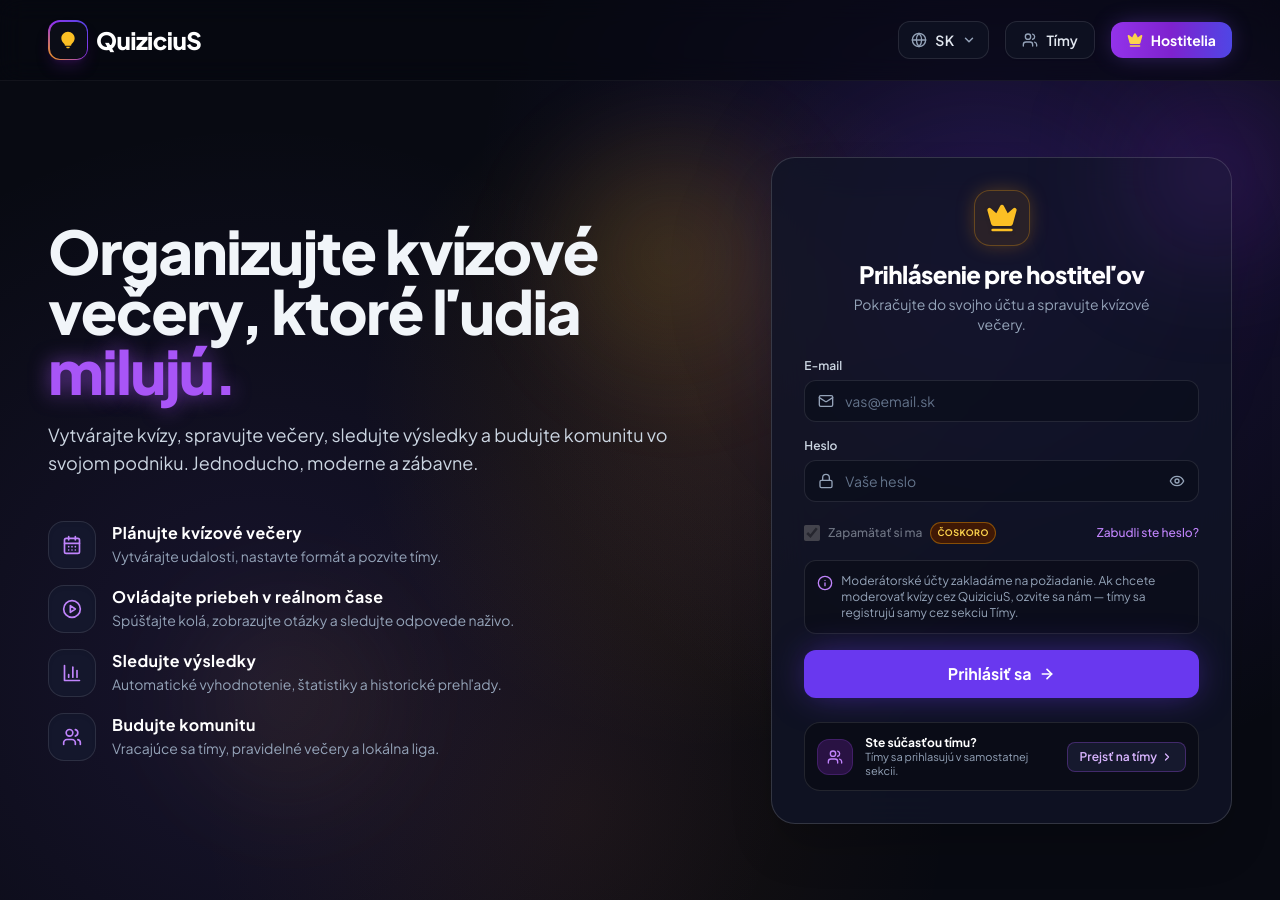
Scenario: LandingPage host card › switches the interface to English
The width and height of the screenshot is (1280, 900).
Click the button with test id "language-switcher" at (944, 40), box [898,21,990,59]
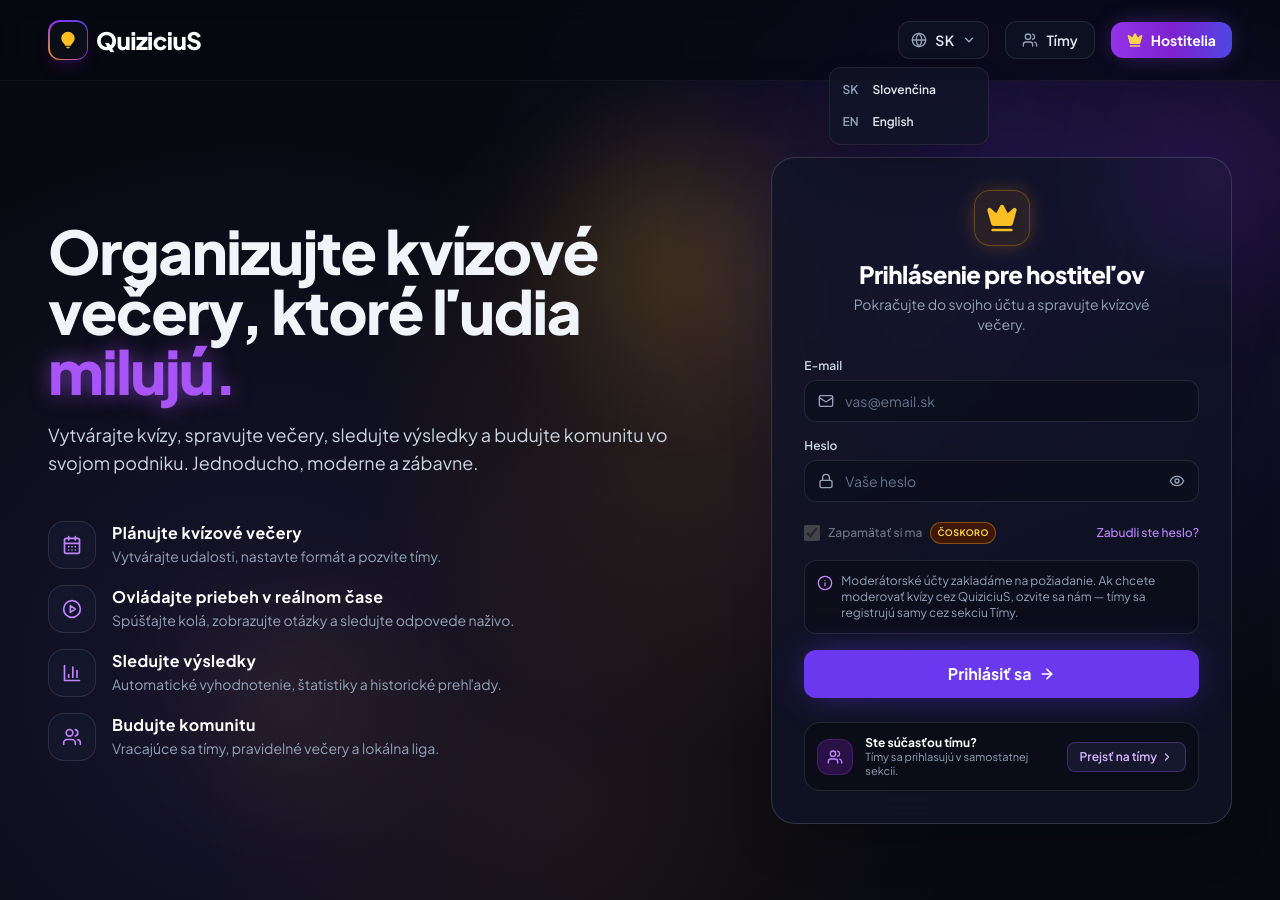
Click the menu item with test id "language-en" at (909, 122), box [830,106,988,138]
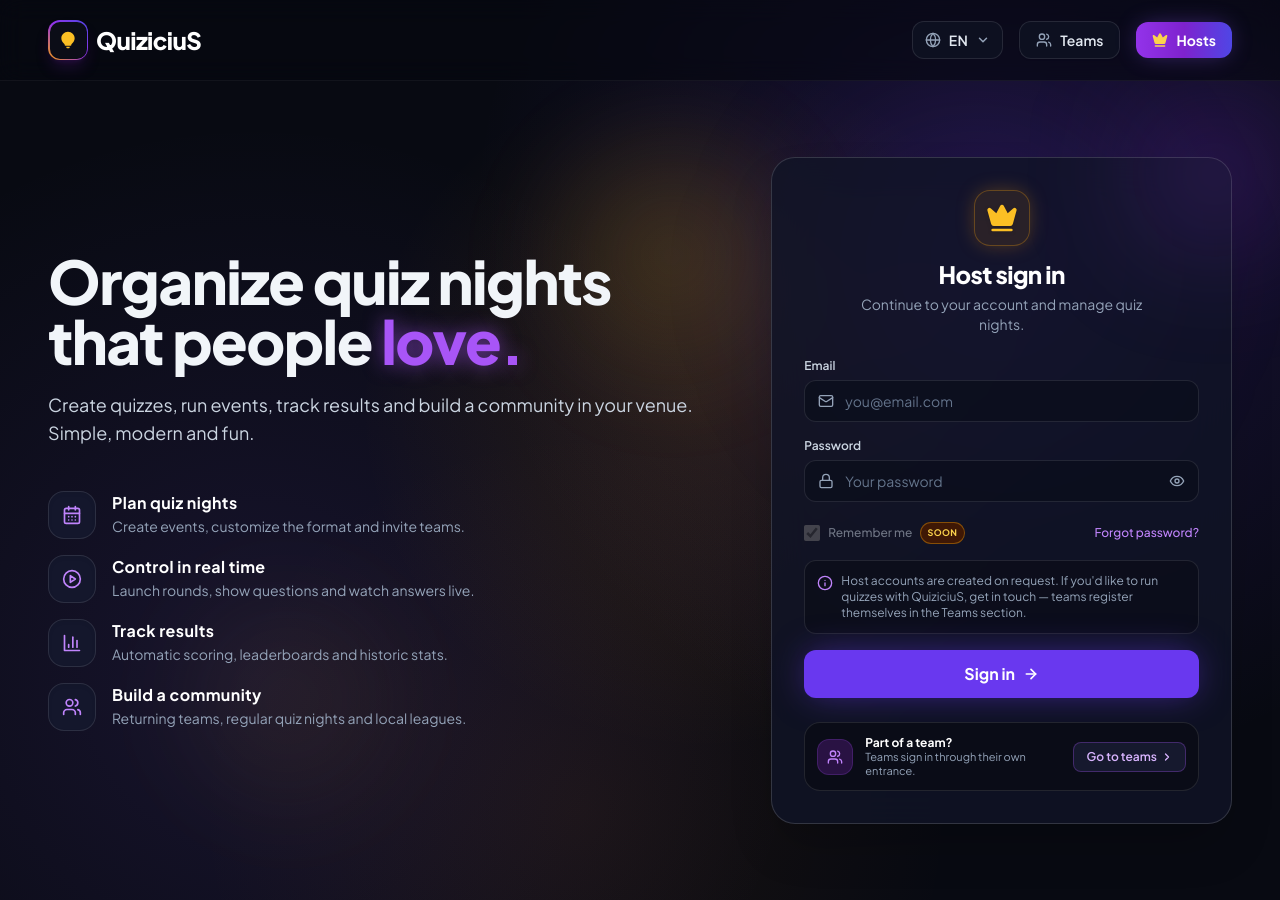
Check: the heading "Host sign in" is shown, box [938,259,1065,289]
